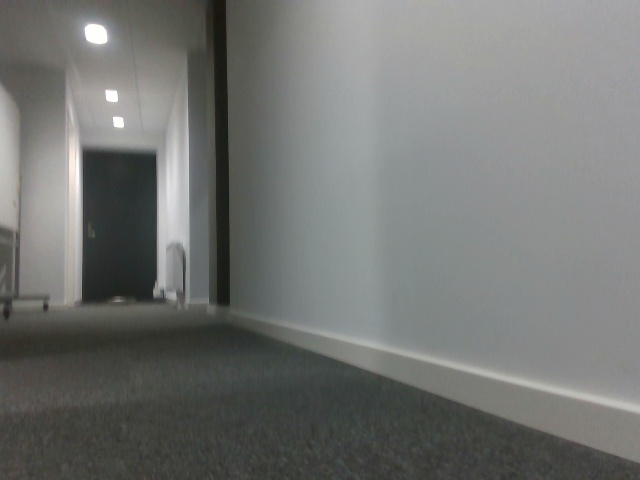alfa: (106, 348, 160, 399)
